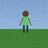person: (20, 11, 31, 33)
